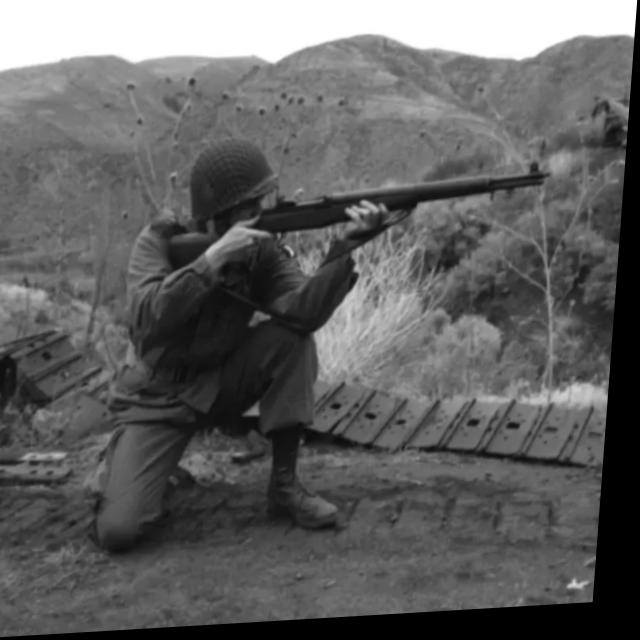other: (92, 131, 353, 542)
